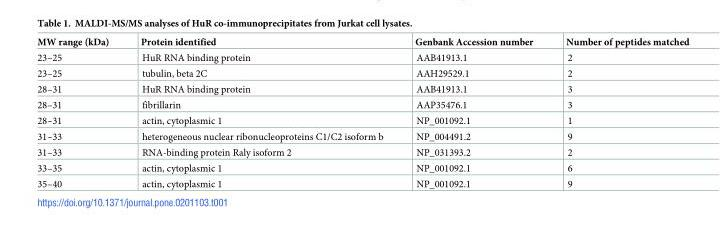table: (36, 36, 688, 188)
table column: (124, 36, 398, 188), (398, 36, 548, 188), (548, 36, 688, 188), (36, 36, 124, 188)
table column header: (36, 36, 688, 49)
table row: (36, 49, 688, 65), (36, 65, 688, 81), (36, 96, 688, 112), (36, 112, 688, 128), (36, 128, 688, 144), (36, 144, 688, 160), (36, 81, 688, 96), (36, 160, 688, 175), (36, 36, 688, 49), (36, 175, 688, 188)
